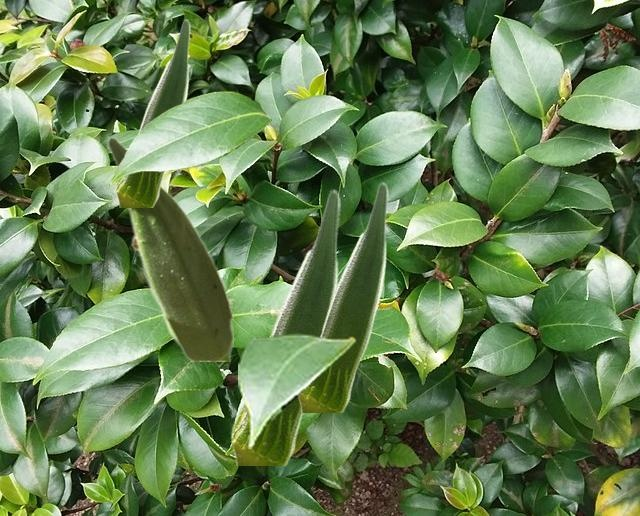okra: (230, 188, 339, 464), (106, 135, 232, 360), (297, 181, 387, 411), (115, 18, 189, 206)
